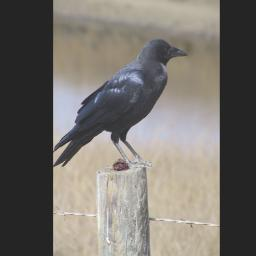Crow: (54, 36, 190, 172)
